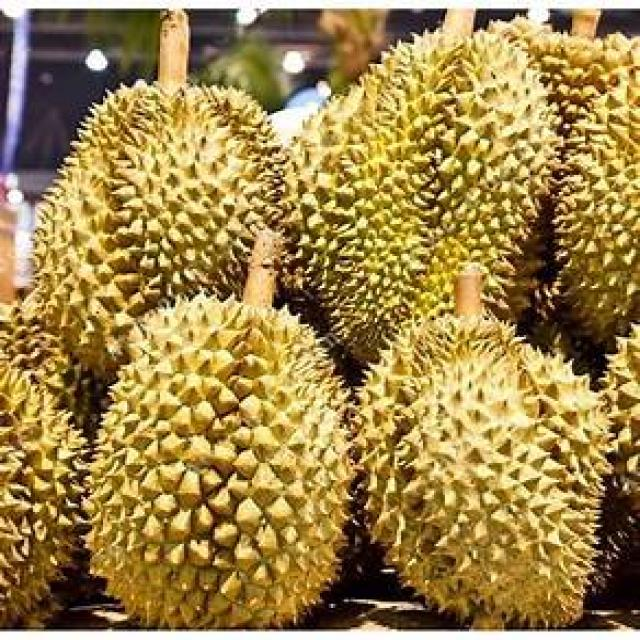mature: (90, 296, 353, 627), (356, 315, 609, 628), (28, 84, 281, 383)
